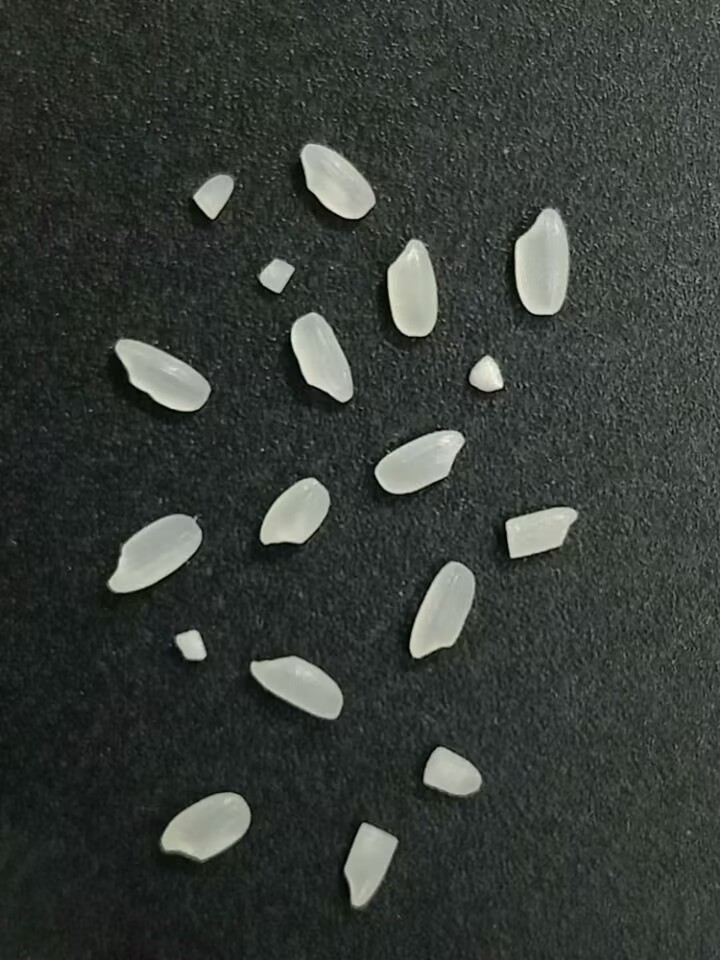broken: (338, 822, 404, 911), (502, 506, 579, 559), (420, 744, 483, 801), (465, 348, 510, 399), (193, 173, 235, 219), (253, 256, 299, 293), (171, 628, 208, 661)
rice: (110, 334, 216, 422), (97, 512, 204, 598), (248, 647, 347, 731), (507, 203, 578, 317), (406, 559, 477, 664), (159, 787, 257, 863), (372, 424, 470, 498), (288, 309, 355, 412), (379, 236, 443, 341), (292, 141, 374, 221), (258, 474, 336, 549)
